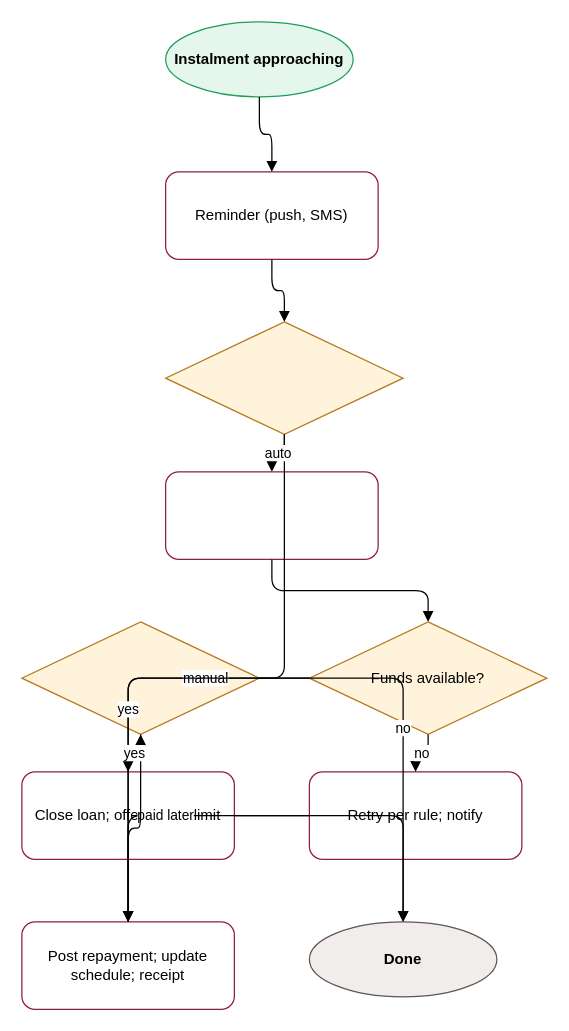
Image size: 569x1031. Some labels were removed from this diagram. The centre of each missing label's shape, as x and y in pixels:
Auto-repay attempt on due date: the point at 271,515
Fully repaid?: the point at 140,677
Pay manually or auto-repay?: the point at 283,377
